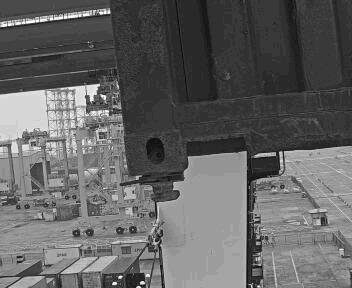twist_lock_1: (113, 165, 174, 207)
